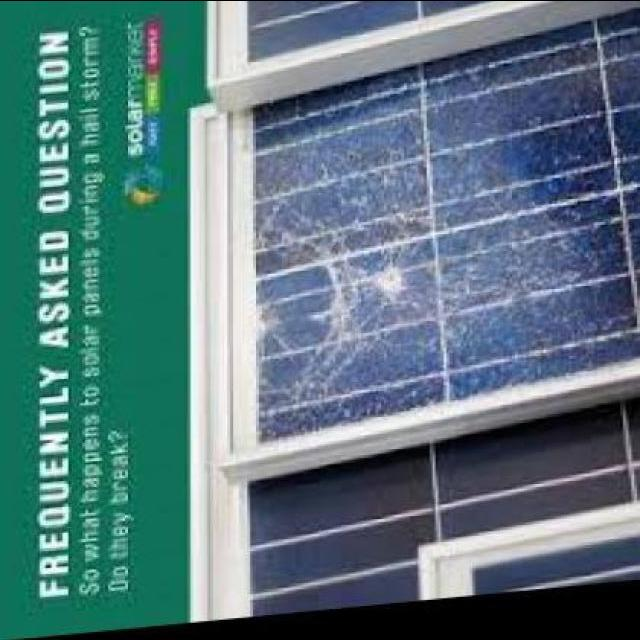cracked: (220, 4, 640, 478)
